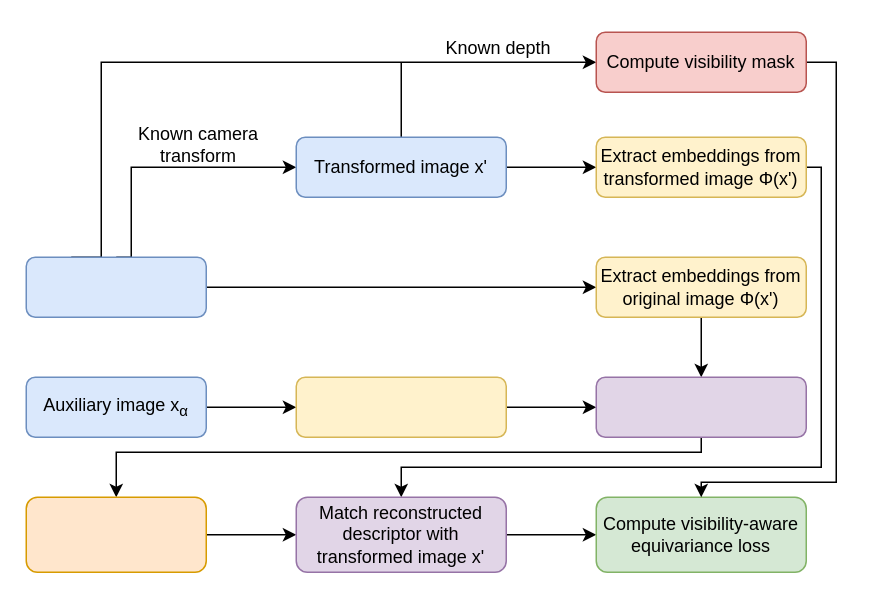
Image size: 875x599. Some labels were removed from this diagram. Each missing label, with the box of its shape:
Extract embeddings from auxiliary image Φ(x α ): (295, 376, 506, 437)
Match embeddings to get weights p(w|u): (595, 376, 806, 437)
Original image x: (25, 256, 206, 317)
Reconstruct descriptors for each pixel in u: (25, 496, 206, 572)
